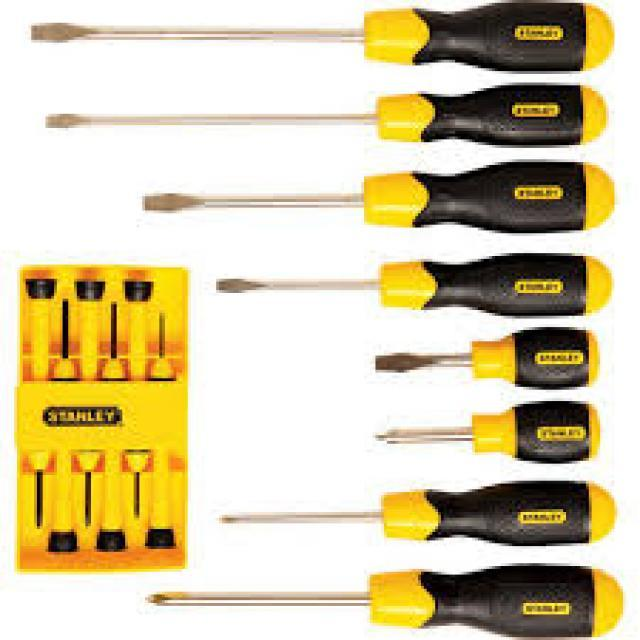screwdriver: (27, 0, 622, 74), (41, 80, 613, 154), (141, 156, 616, 236), (138, 563, 627, 640), (213, 478, 620, 555), (199, 246, 620, 317), (368, 323, 604, 394), (372, 397, 606, 468)
